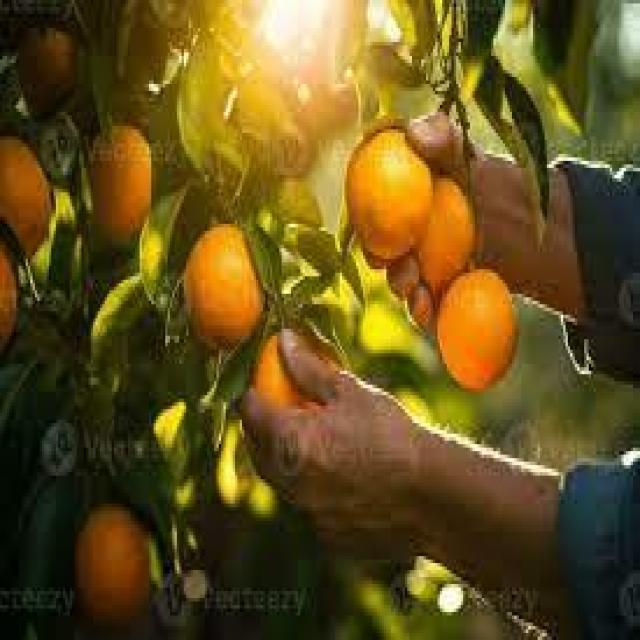fruit: (346, 127, 433, 261), (73, 503, 153, 632), (436, 264, 517, 391), (184, 222, 263, 347), (87, 120, 155, 244), (295, 53, 360, 160), (418, 178, 476, 294), (0, 136, 53, 256), (254, 330, 326, 411), (16, 25, 76, 117), (0, 235, 19, 368)
